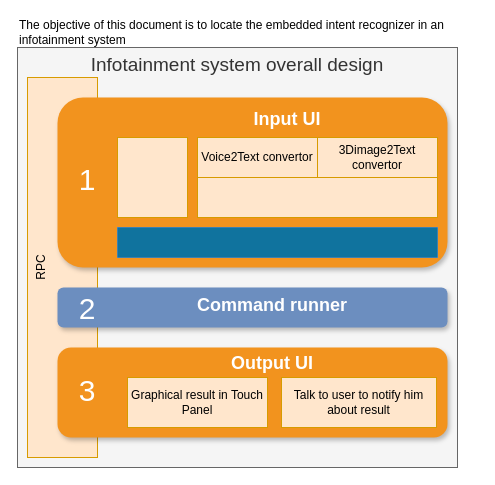
This 495x485 diagram has some shape labels left out. The shapes that lost their labels are listed below. From the top down, each one's centre as x and y in pixels, then its label:
At point 152,177: "TouchPanel command".
At point 317,197: "Embedded intent recognizer".
At point 277,242: "Command builder".
